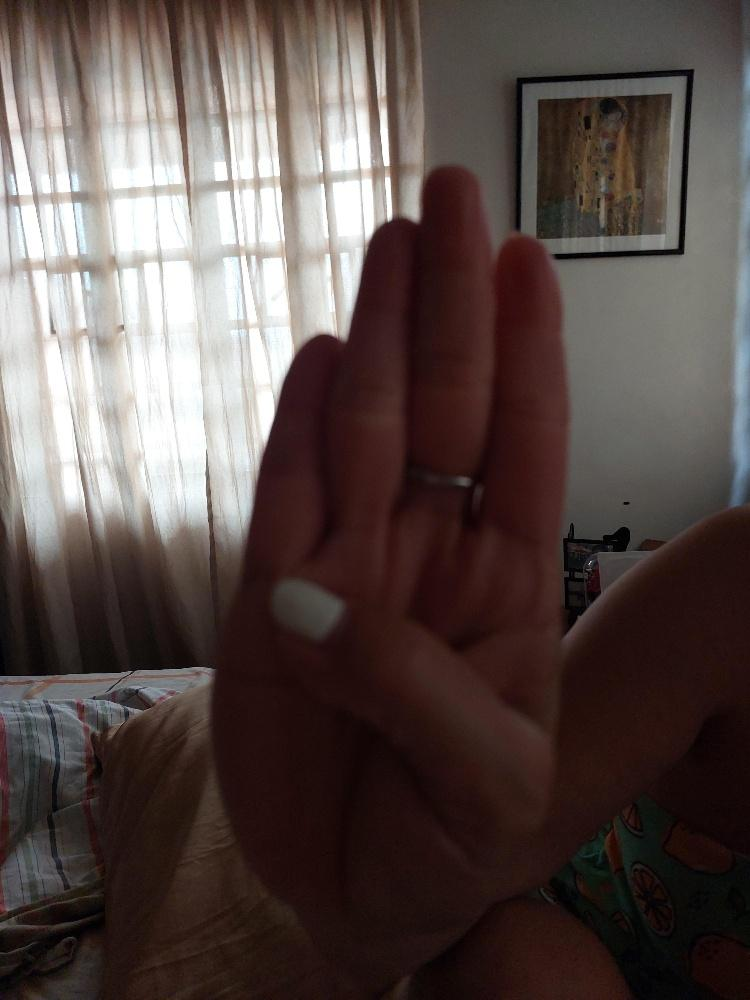b: (199, 156, 578, 930)
